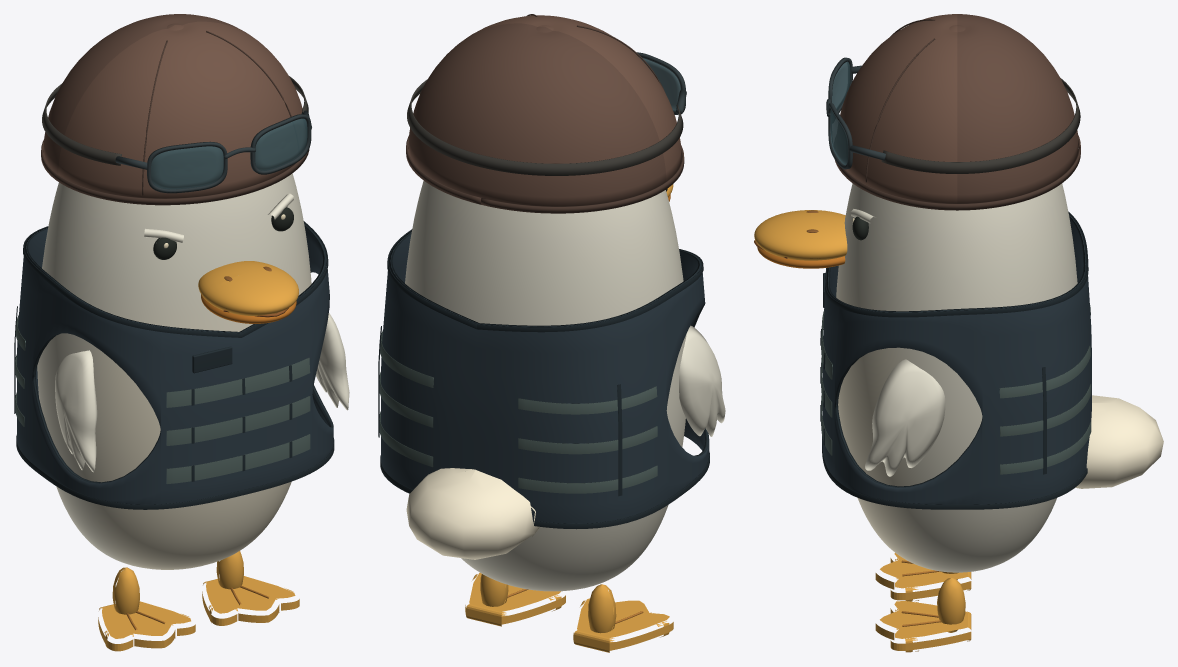
File: goose-wing-character.glb
3 renders of one model, left to right at view 1: azimuth 30°, elevation 25°; view 2: azimuth 150°, elevation 25°; view 3: azimuth 270°, elevation 25°, orthographic. The views are drawn at different scales.
Parts seen in each view (by area): view 1: goose_vest_refined_mesh, goose_torso_mesh, goose_face_aviator_cap_mesh, goose_face_raised_goggles_mesh, goose_beak_mesh, goose_leftArm_mesh, goose_leftFoot_mesh, goose_rightFoot_mesh, goose_rightArm_mesh; view 2: goose_vest_refined_mesh, goose_face_aviator_cap_mesh, goose_torso_mesh, goose_tail_mesh, goose_face_raised_goggles_mesh, goose_leftFoot_mesh, goose_leftArm_mesh, goose_rightFoot_mesh; view 3: goose_torso_mesh, goose_vest_refined_mesh, goose_face_aviator_cap_mesh, goose_rightArm_mesh, goose_tail_mesh, goose_face_raised_goggles_mesh, goose_beak_mesh, goose_rightFoot_mesh, goose_leftFoot_mesh.
Boxes of the visible parts, box(x1,y1,x2,y2) form: goose_vest_refined_mesh: box(14, 221, 334, 509); goose_torso_mesh: box(37, 173, 311, 569); goose_face_aviator_cap_mesh: box(41, 14, 309, 205); goose_face_raised_goggles_mesh: box(42, 76, 311, 193); goose_beak_mesh: box(198, 261, 298, 323); goose_leftArm_mesh: box(55, 350, 97, 472); goose_leftFoot_mesh: box(98, 567, 195, 651); goose_rightFoot_mesh: box(202, 551, 299, 625); goose_rightArm_mesh: box(316, 313, 349, 410); goose_vest_refined_mesh: box(378, 229, 709, 529); goose_face_aviator_cap_mesh: box(406, 14, 684, 213); goose_torso_mesh: box(405, 181, 686, 591); goose_tail_mesh: box(406, 468, 539, 559); goose_face_raised_goggles_mesh: box(407, 52, 686, 175); goose_leftFoot_mesh: box(573, 584, 673, 652); goose_leftArm_mesh: box(679, 325, 725, 436); goose_rightFoot_mesh: box(465, 573, 565, 626); goose_torso_mesh: box(836, 183, 1077, 572); goose_vest_refined_mesh: box(820, 211, 1091, 509); goose_face_aviator_cap_mesh: box(835, 14, 1080, 210); goose_rightArm_mesh: box(865, 359, 945, 476); goose_tail_mesh: box(1075, 395, 1163, 488); goose_face_raised_goggles_mesh: box(826, 57, 1080, 173); goose_beak_mesh: box(754, 210, 847, 268); goose_rightFoot_mesh: box(875, 578, 971, 652); goose_leftFoot_mesh: box(875, 553, 971, 601).
Bounding box in the file's own units: 1.06 × 2.15 × 1.37.
